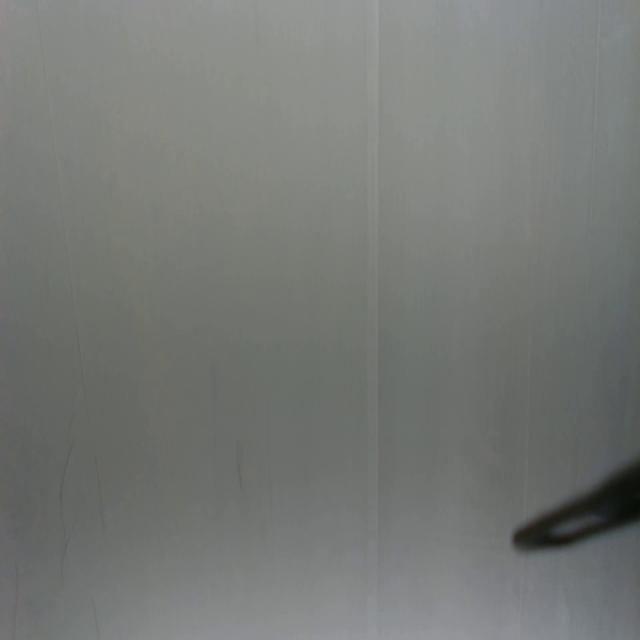crease: (34, 0, 105, 527), (365, 0, 381, 639), (582, 0, 604, 312), (519, 338, 535, 516)
